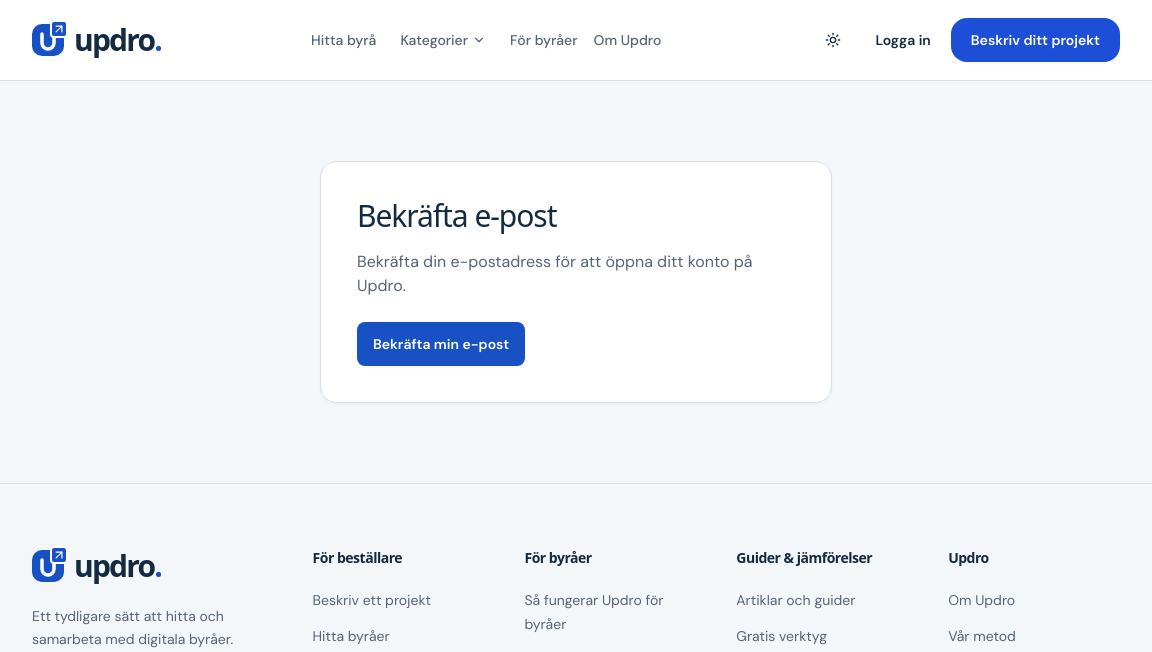
Test: offers a new confirmation for an expired token
The width and height of the screenshot is (1152, 652).
What coordinates should you click on to do the following:
click the button "Bekräfta min e-post"
I would click on:
 (441, 344)
Its box is [357,322,525,366].
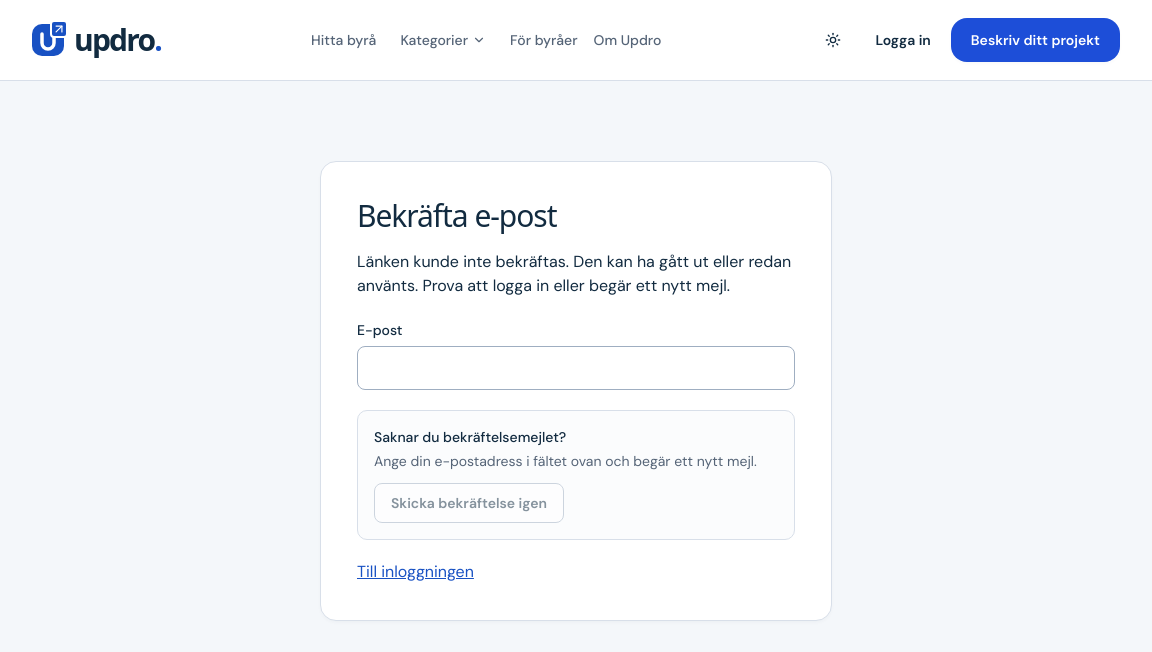
Expected: the message shows "gått ut", [357,251,791,296]
Expected: the button "Skicka bekräftelse igen" is disabled, [374,483,564,523]
